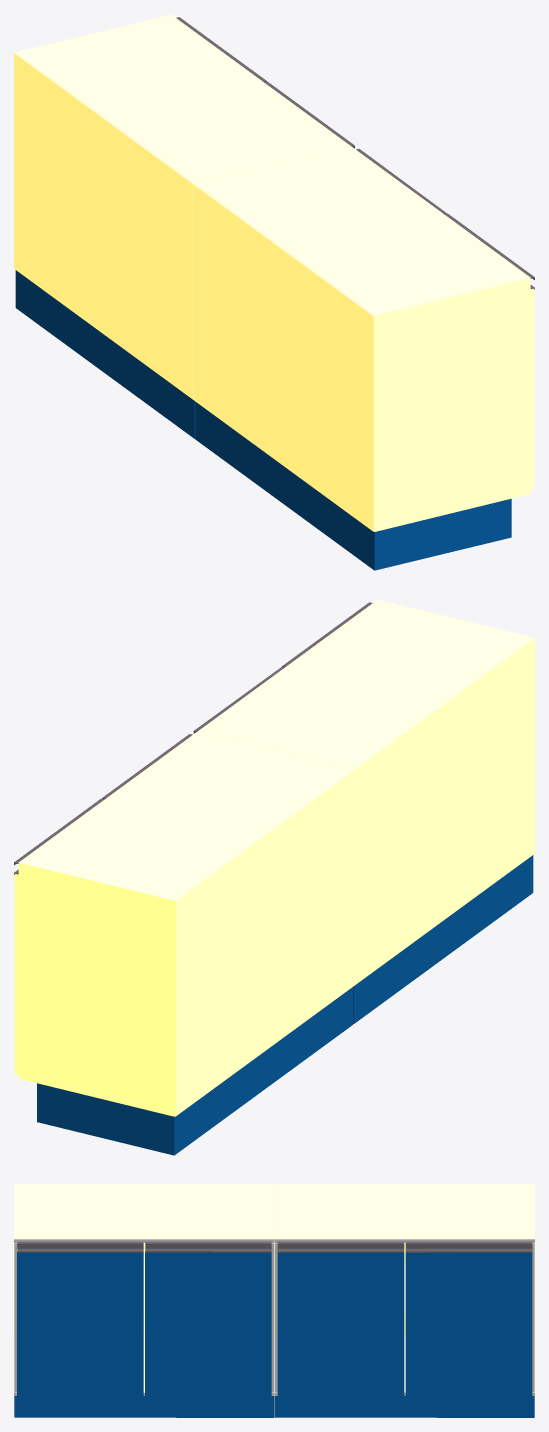
Rendered from cabinet1a - Copie.gltf.
The picture shows the model from 3 angles, top to bottom: view 1: azimuth 30°, elevation 25°; view 2: azimuth 150°, elevation 25°; view 3: azimuth 270°, elevation 25°; orthographic projection. The views are drawn at different scales.
Visible parts, largest first — view 1: BODY.001, BACK.001, BACK, BODY, BASE.001, BASE, EDGE TAPE DOOR.002; view 2: BODY, BACK, BACK.001, BODY.001, BASE, BASE.001, EDGE TAPE DOOR.001; view 3: ouvrir1, ouvrir0, ouvrir3, ouvrir2, BODY, BODY.001, BASE, BASE.001, EDGE TAPE.001, EDGE TAPE, PULLER, PULLER.001 (+4 smaller).
Part boxes in pixels (left/top/right/bottom): BODY.001: left=195, top=146, right=530, bottom=531; BACK.001: left=194, top=184, right=374, bottom=531; BACK: left=14, top=53, right=194, bottom=399; BODY: left=15, top=14, right=350, bottom=183; BASE.001: left=195, top=401, right=511, bottom=570; BASE: left=15, top=270, right=195, bottom=438; EDGE TAPE DOOR.002: left=530, top=288, right=534, bottom=489; BODY: left=18, top=731, right=353, bottom=1116; BACK: left=174, top=769, right=355, bottom=1116; BACK.001: left=354, top=638, right=534, bottom=984; BODY.001: left=198, top=599, right=533, bottom=768; BASE: left=37, top=987, right=353, bottom=1155; BASE.001: left=353, top=855, right=533, bottom=1023; EDGE TAPE DOOR.001: left=14, top=873, right=18, bottom=1074; ouvrir1: left=277, top=1252, right=404, bottom=1396; ouvrir0: left=405, top=1252, right=532, bottom=1396; ouvrir3: left=17, top=1252, right=143, bottom=1396; ouvrir2: left=145, top=1252, right=271, bottom=1396; BODY: left=274, top=1184, right=534, bottom=1392; BODY.001: left=14, top=1184, right=274, bottom=1392; BASE: left=274, top=1396, right=534, bottom=1417; BASE.001: left=14, top=1396, right=274, bottom=1417; EDGE TAPE.001: left=14, top=1239, right=274, bottom=1395; EDGE TAPE: left=274, top=1239, right=534, bottom=1395; PULLER: left=277, top=1241, right=404, bottom=1252; PULLER.001: left=405, top=1241, right=532, bottom=1252.
Size of the model in its own units: 0.5263 by 0.785 by 2.
